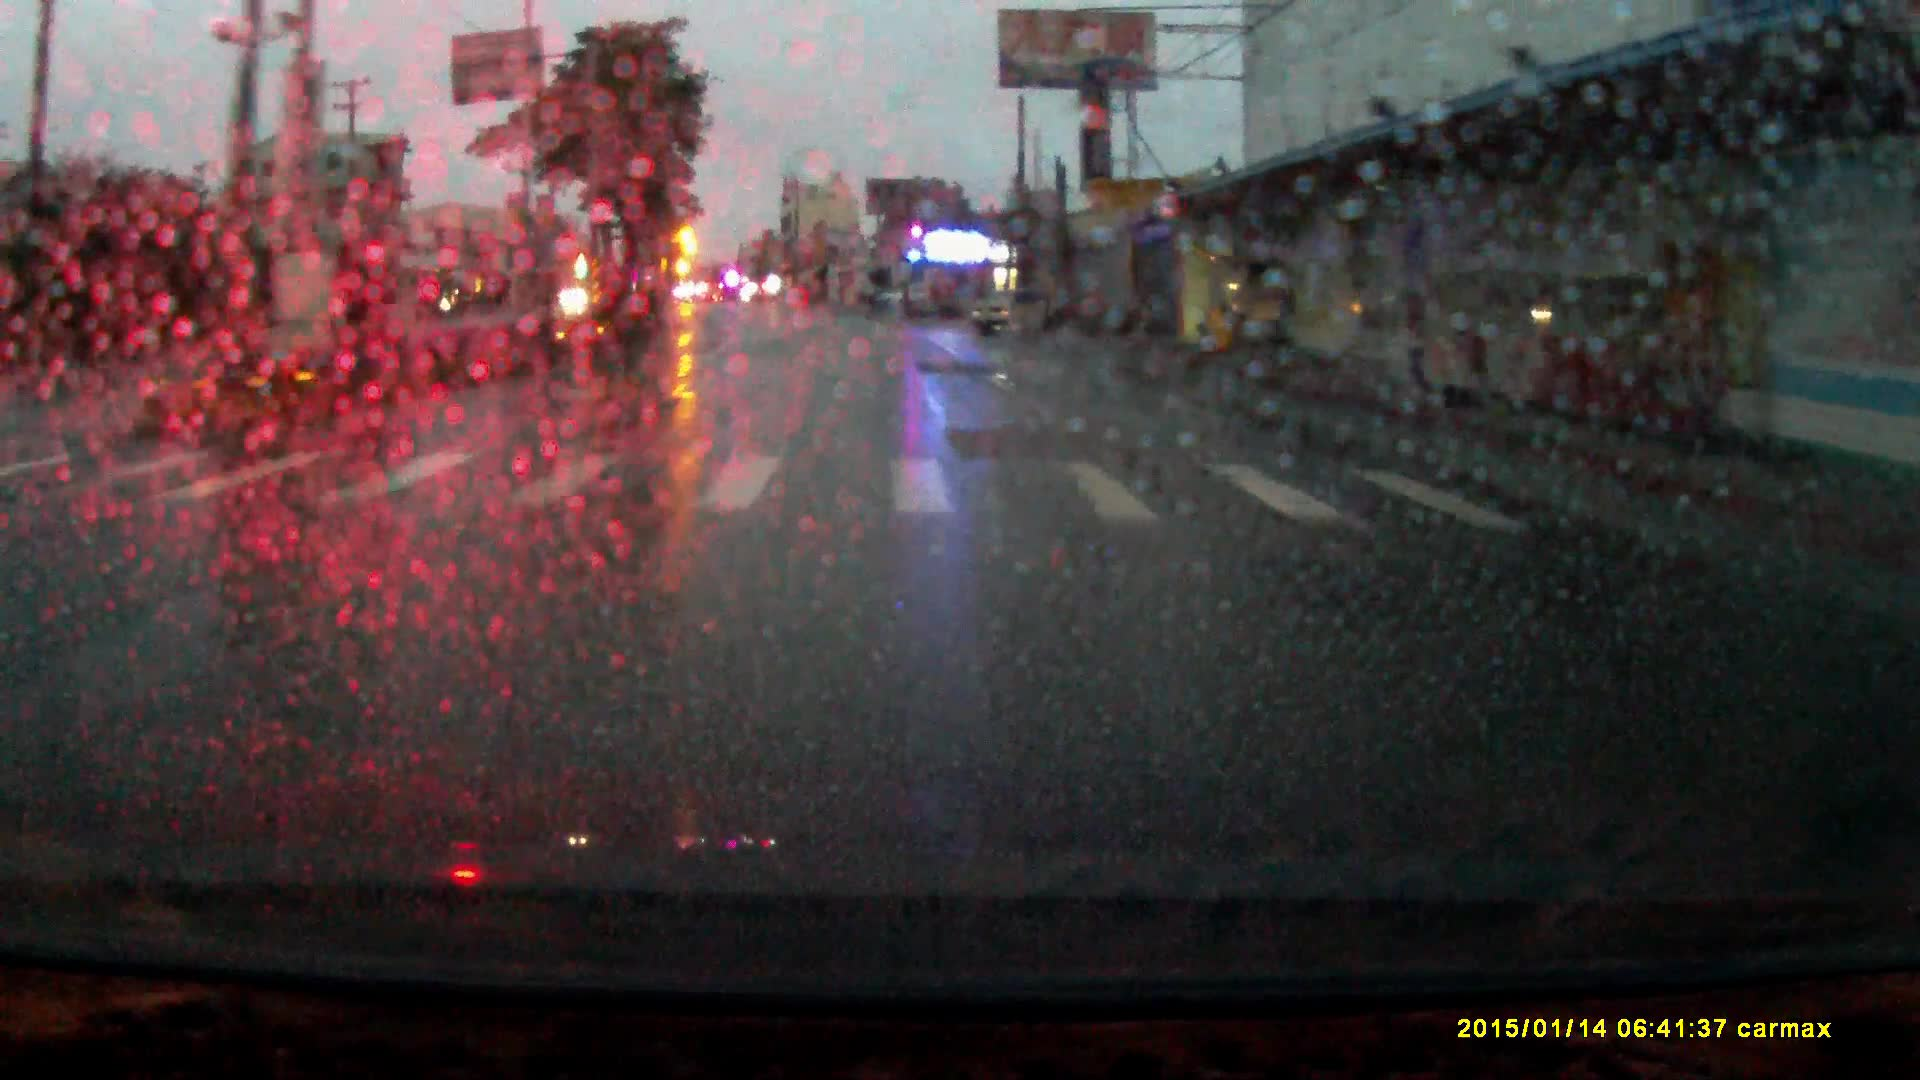vehicle: (968, 287, 1058, 339)
